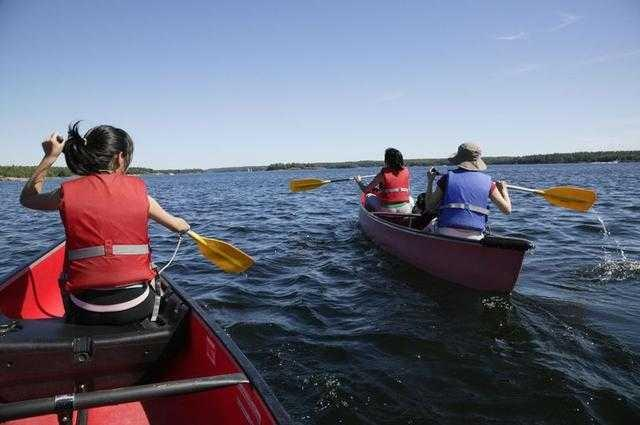kayak: (1, 237, 289, 420), (356, 198, 536, 296)
